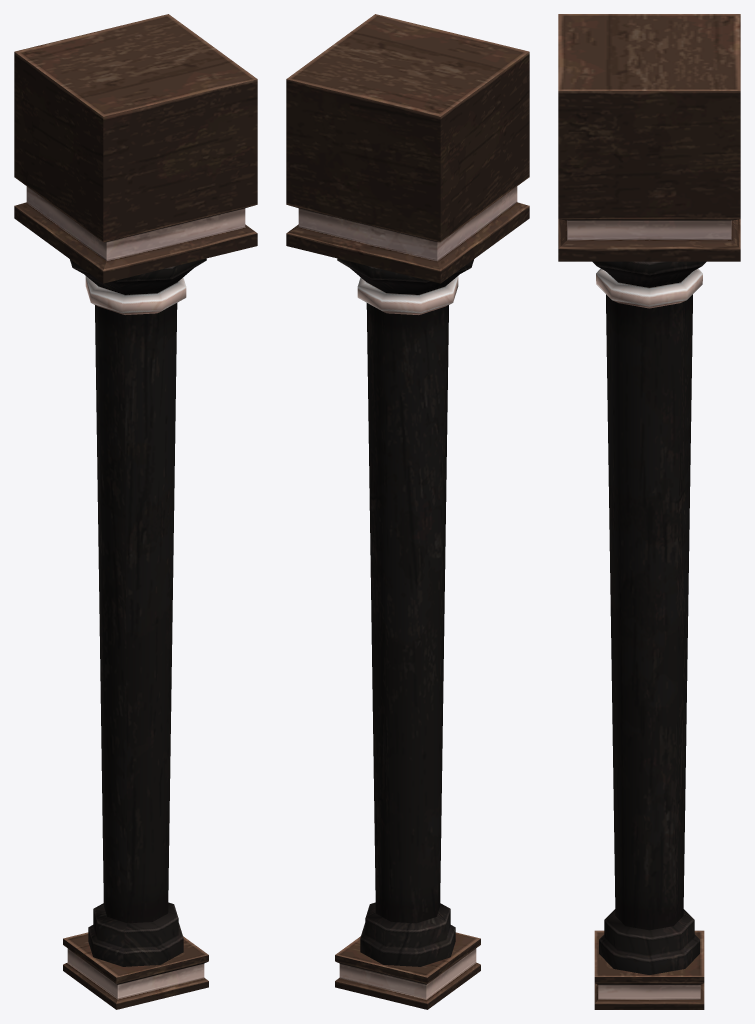
Rendered from em_column_minotaur.fbx.
The picture shows the model from 3 angles, left to right: view 1: azimuth 30°, elevation 25°; view 2: azimuth 150°, elevation 25°; view 3: azimuth 270°, elevation 25°; orthographic projection. The views are drawn at different scales.
Visible parts, largest first — view 1: em_column_minotaur; view 2: em_column_minotaur; view 3: em_column_minotaur.
Part boxes in pixels (bbox=[...]): em_column_minotaur: bbox=[14, 14, 257, 1009]; em_column_minotaur: bbox=[286, 14, 529, 1009]; em_column_minotaur: bbox=[558, 14, 740, 1009].
Size of the model in its own units: 500 by 2828 by 500.
